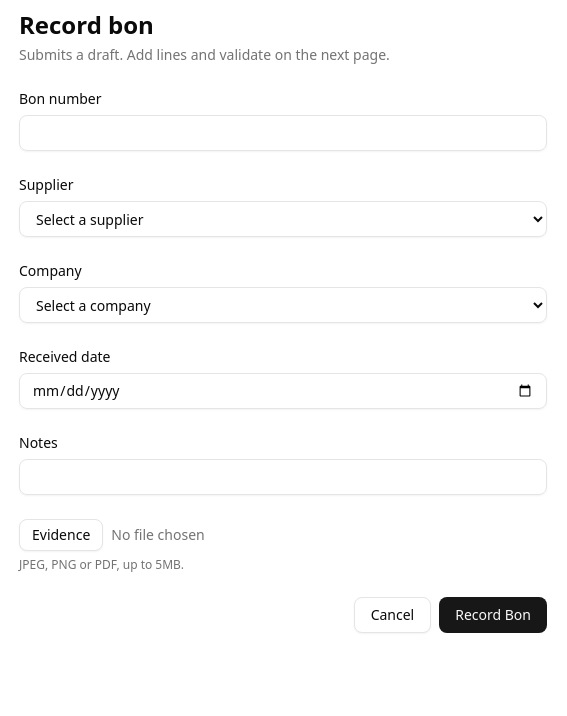
Test: validation › shows a required error for every required field on an empty submit
The image size is (567, 716).
What coordinates should you click on to do the following:
click the button "Record Bon"
I would click on:
 (493, 615)
Its box is [439,597,547,633].
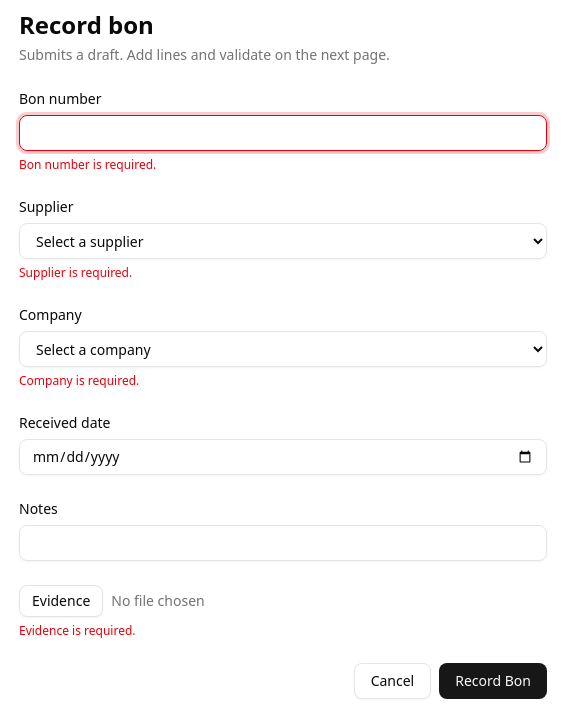
Expected: the text "Bon number is required." is shown, [19,156,156,173]
Expected: the text "Supplier is required." is shown, [19,264,132,281]
Expected: the text "Company is required." is shown, [19,372,139,389]
